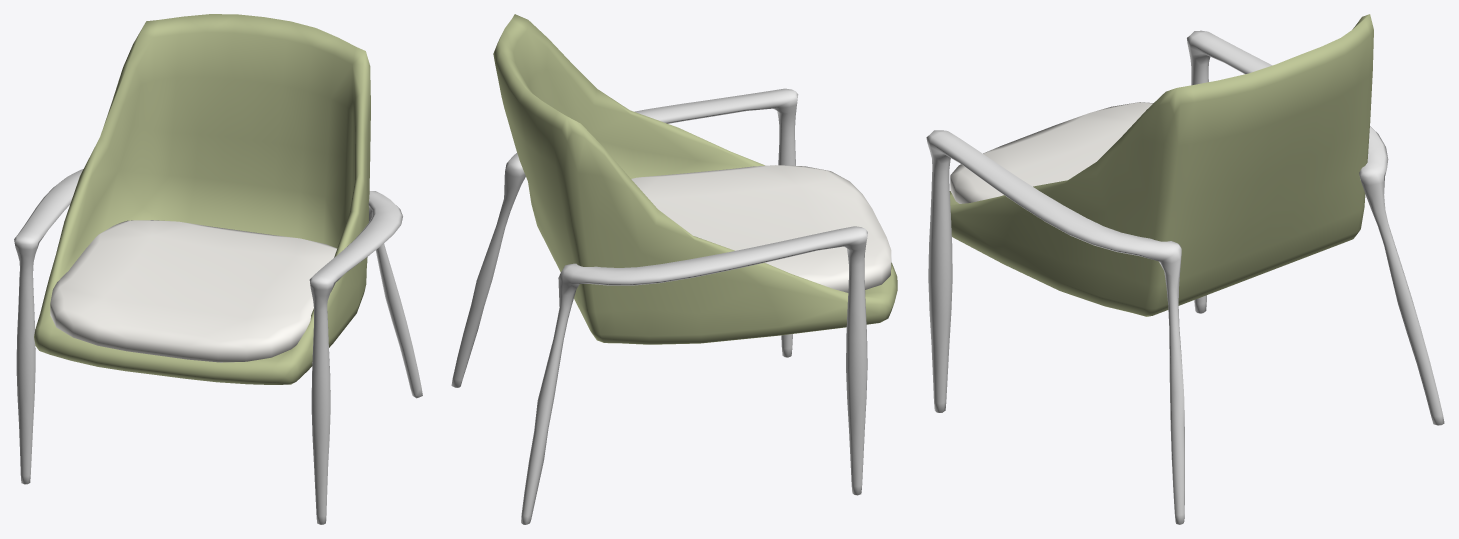
The model's file is sofa_chair.fbx.
3 renders of one model, left to right at view 1: azimuth 30°, elevation 25°; view 2: azimuth 150°, elevation 25°; view 3: azimuth 270°, elevation 25°, orthographic. The views are drawn at different scales.
Parts seen in each view (by area): view 1: Rectangle010, Rectangle008; view 2: Rectangle010, Rectangle008; view 3: Rectangle010, Rectangle008.
Part boxes in pixels (box(x1,y1,x2,y2)): Rectangle010: box(34, 14, 370, 384); Rectangle008: box(14, 169, 422, 524); Rectangle010: box(493, 14, 897, 344); Rectangle008: box(451, 88, 867, 524); Rectangle010: box(949, 14, 1373, 316); Rectangle008: box(926, 30, 1444, 524).
Size of the model in its own units: 119 by 104 by 119.
